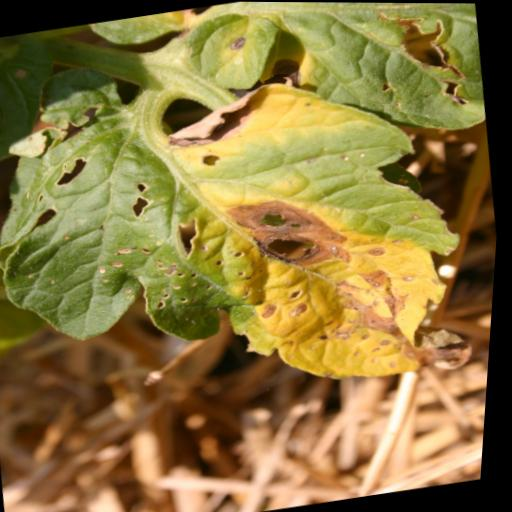Early Blight: (0, 55, 487, 437)
